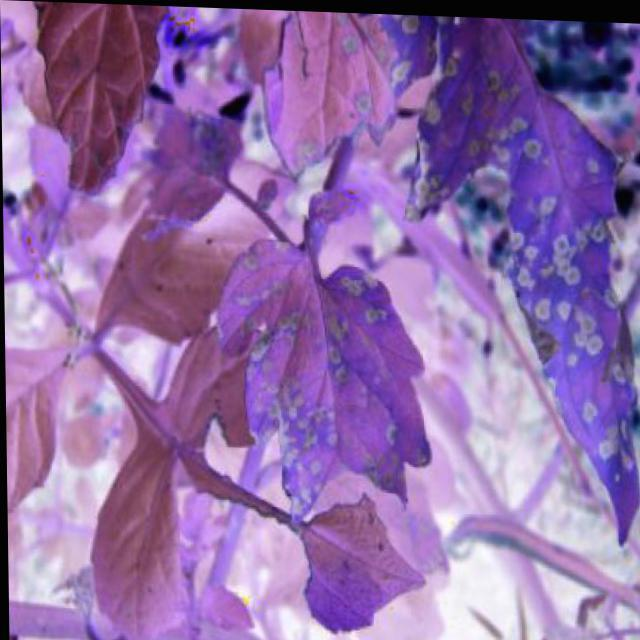Tomato Septoria spot leaf: (408, 13, 639, 522), (202, 226, 436, 522)
